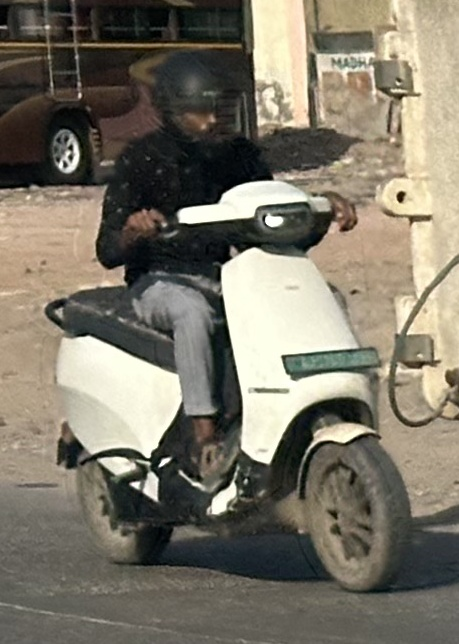BikeWithRider: (44, 45, 417, 593)
Helmet: (147, 48, 248, 157)
